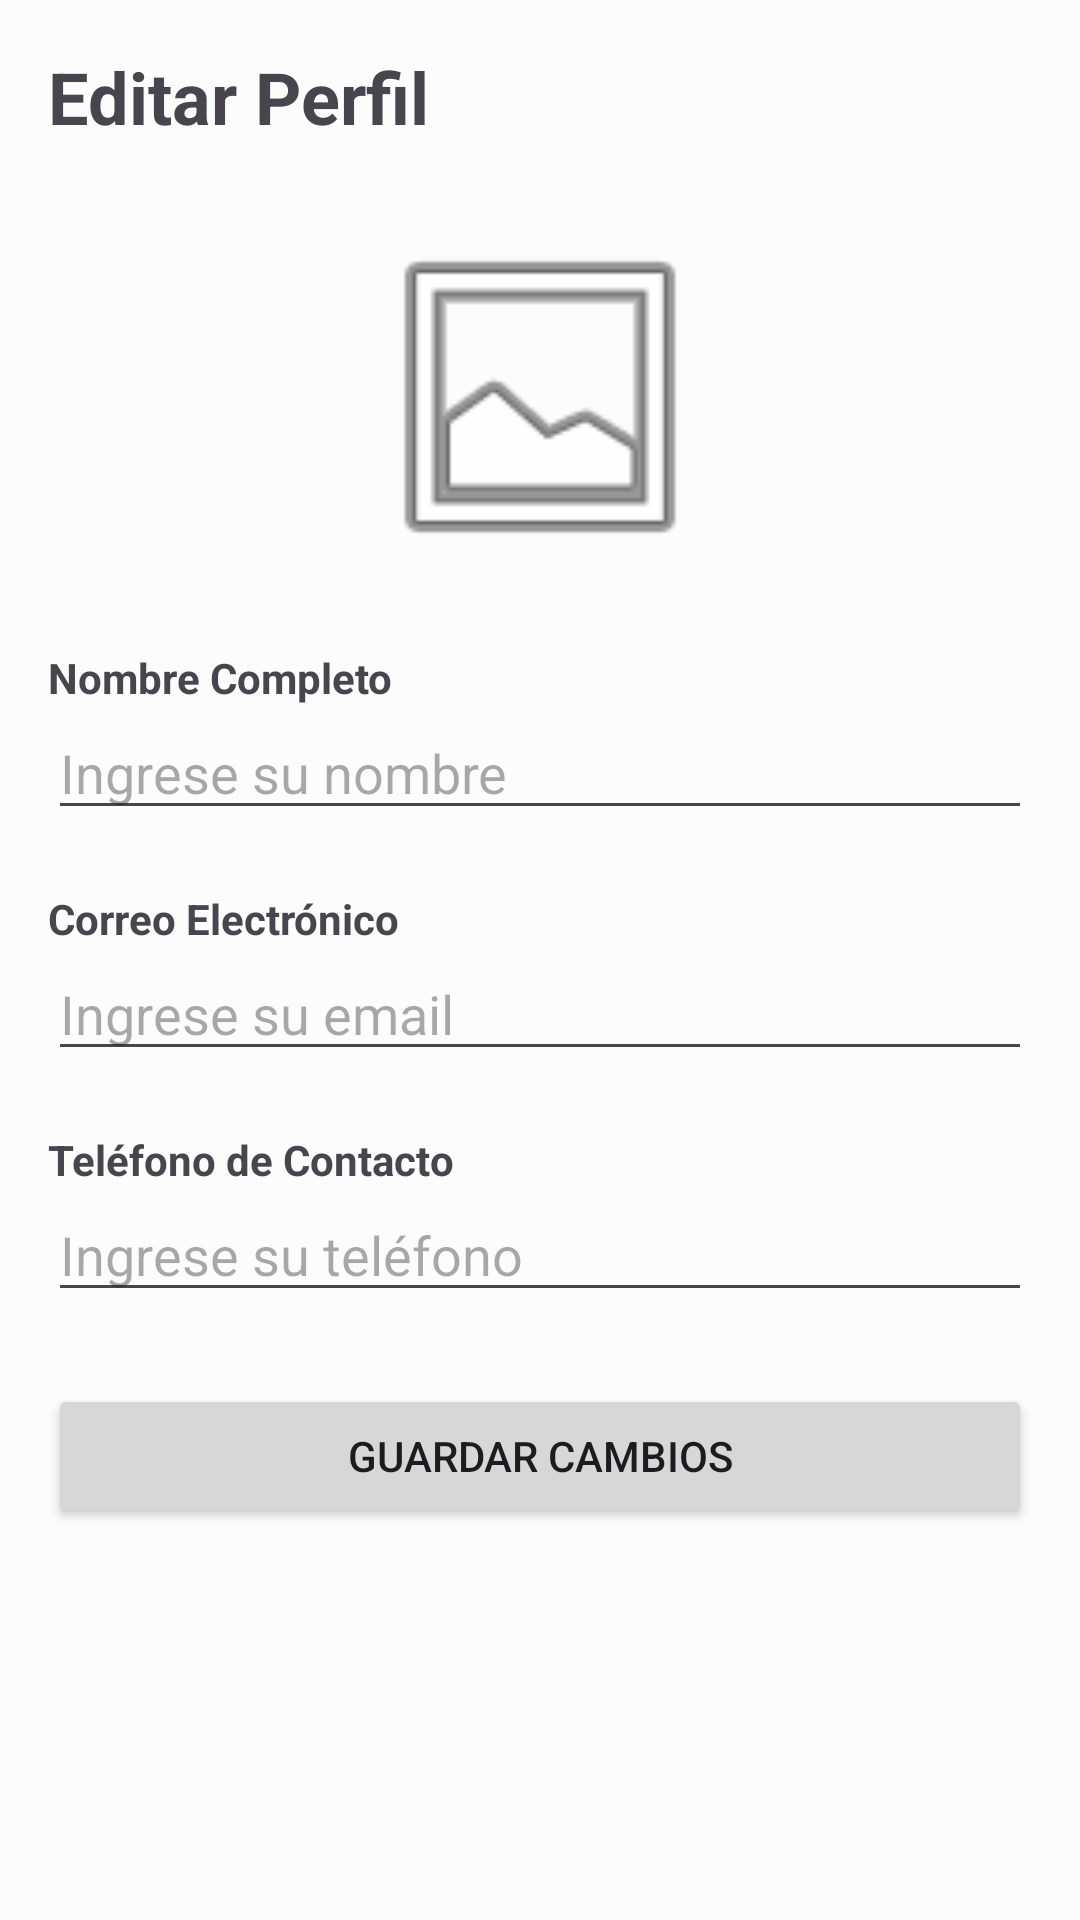

Where icons sit on this 1080px×1920px app screen, as (x1, y1, x2, y2):
Cambiar Foto de Perfil: (404, 261, 676, 533)
